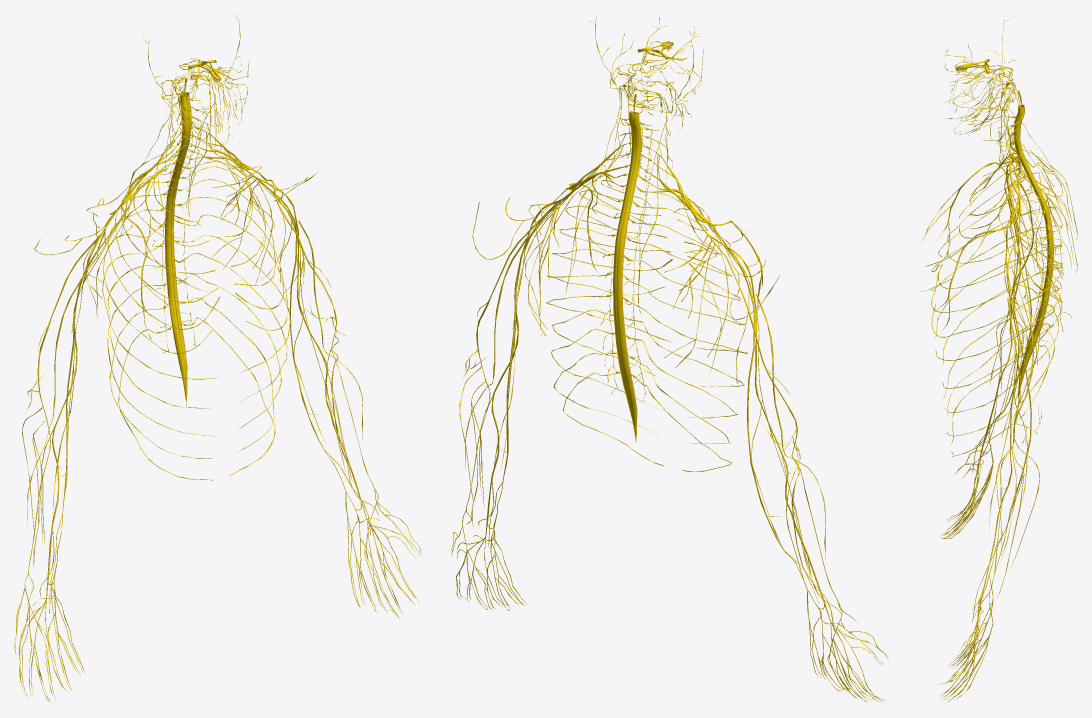
The model's file is nerves.glb.
3 views of the same model, side by side, from view 1: azimuth 30°, elevation 25°; view 2: azimuth 150°, elevation 25°; view 3: azimuth 270°, elevation 25° (orthographic). The views are drawn at different scales.
Parts seen in each view (by area): view 1: nerves.002_0; view 2: nerves.002_0; view 3: nerves.002_0.
Boxes of the visible parts, bbox=[...] form: nerves.002_0: bbox=[14, 14, 421, 701]; nerves.002_0: bbox=[451, 16, 888, 702]; nerves.002_0: bbox=[920, 17, 1077, 702].
Bounding box in the file's own units: 0.667 × 0.9597 × 0.2368.
